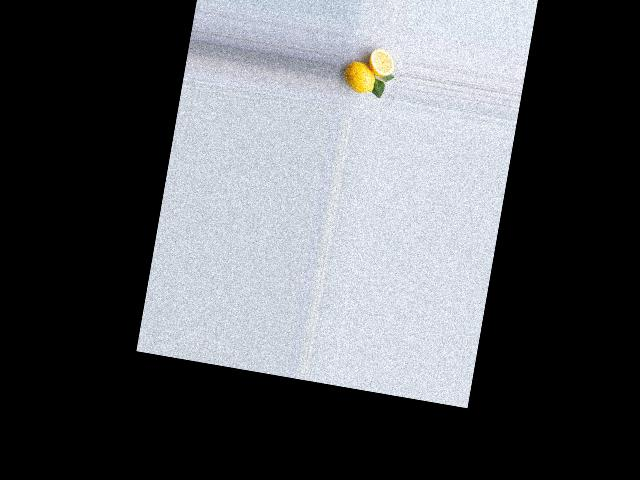lemon: (340, 60, 380, 98)
